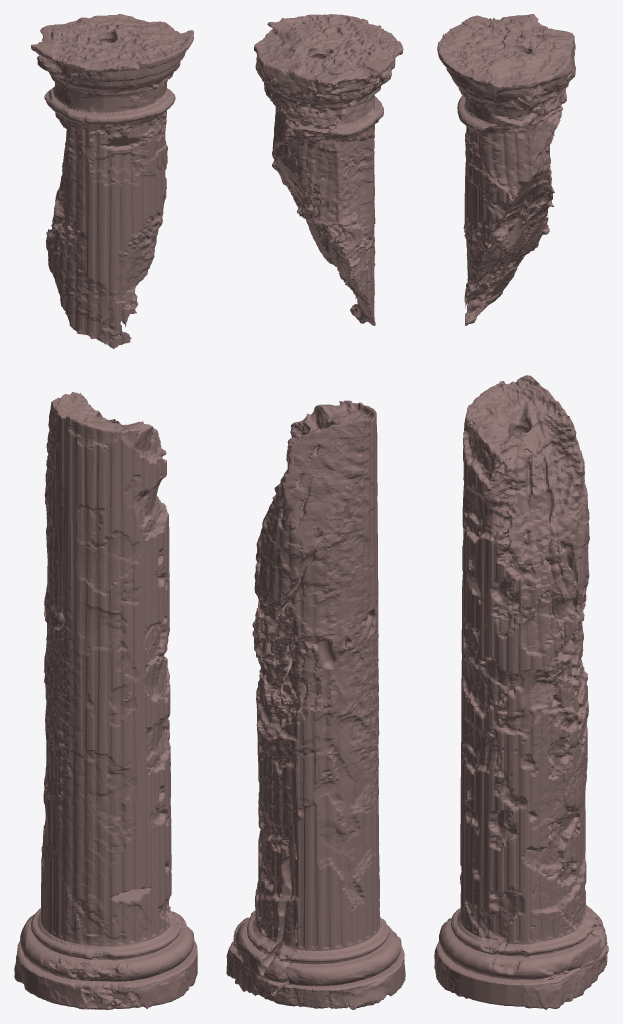
The picture shows the model from 3 angles, left to right: view 1: azimuth 30°, elevation 25°; view 2: azimuth 150°, elevation 25°; view 3: azimuth 270°, elevation 25°; orthographic projection. The views are drawn at different scales.
Visible parts, largest first — view 1: col shattered 5.001, col shattered 4.001; view 2: col shattered 5.001, col shattered 4.001; view 3: col shattered 5.001, col shattered 4.001.
Boxes of the visible parts, box(x1,y1,x2,y2) form: col shattered 5.001: box(14, 392, 197, 1009); col shattered 4.001: box(31, 14, 193, 348); col shattered 5.001: box(226, 400, 405, 1009); col shattered 4.001: box(254, 14, 403, 325); col shattered 5.001: box(434, 375, 608, 1009); col shattered 4.001: box(437, 14, 575, 325).
Bounding box in the file's own units: 99.04 × 565 × 96.12.
